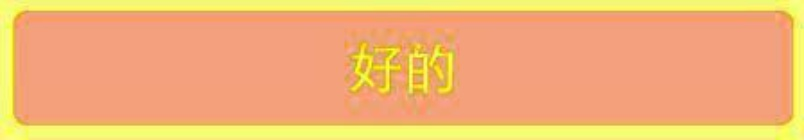Button: (1, 1, 803, 139)
